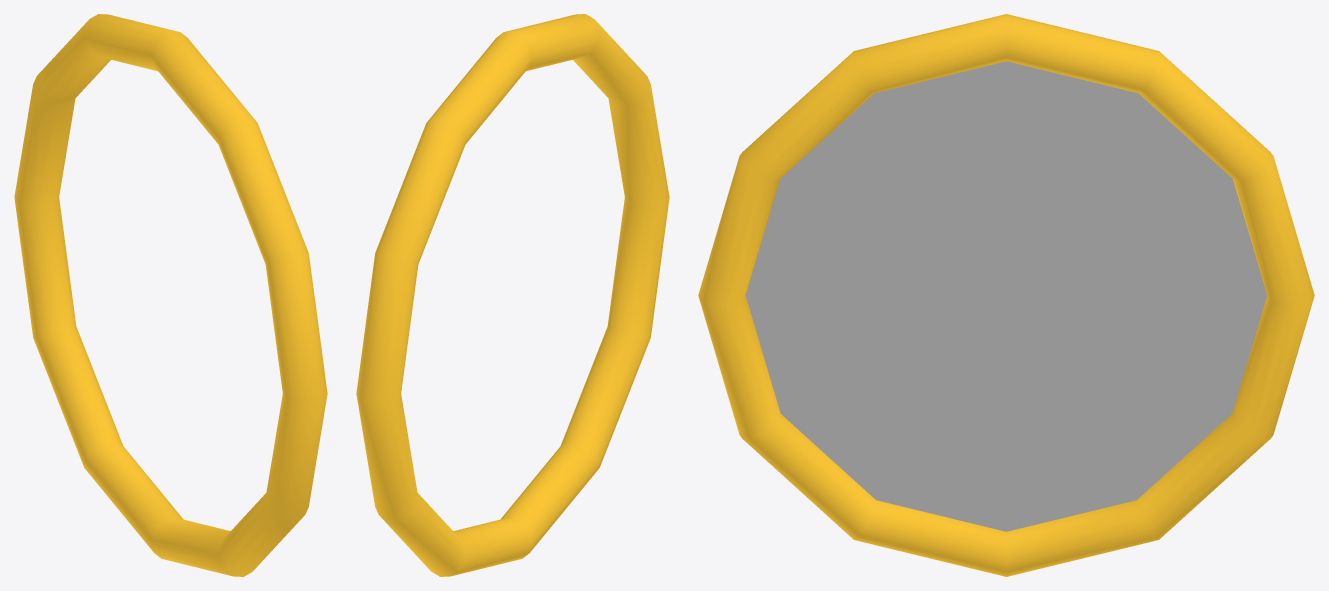
The model's file is Portal.glb.
3 views of the same model, side by side, from view 1: azimuth 30°, elevation 25°; view 2: azimuth 150°, elevation 25°; view 3: azimuth 270°, elevation 25° (orthographic). The views are drawn at different scales.
Parts seen in each view (by area): view 1: Torus.002; view 2: Torus.002; view 3: Plane, Torus.002.
Boxes of the visible parts, <box> form: Torus.002: <box>14,14,327,576</box>; Torus.002: <box>356,14,669,576</box>; Plane: <box>745,61,1267,531</box>; Torus.002: <box>698,14,1314,576</box>.
Bounding box in the file's own units: 0.5 × 6.5 × 6.5.
Materials: 1 (1 with a texture image).
